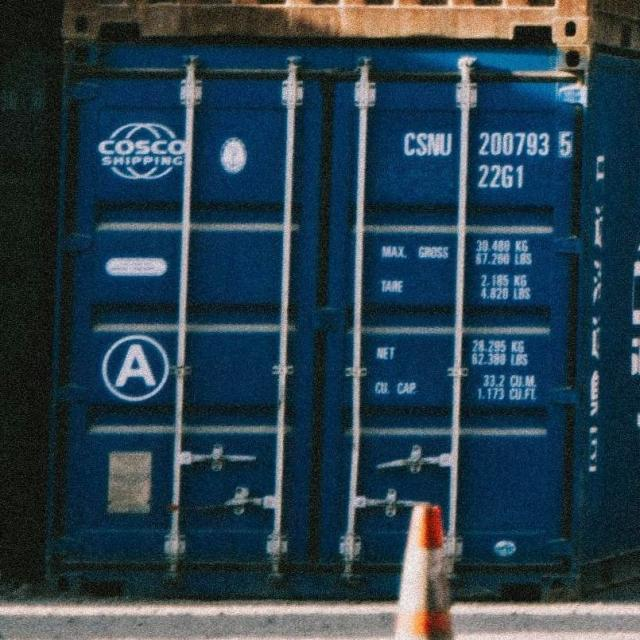ISO: (478, 164, 528, 192)
container_number: (400, 132, 573, 160)
